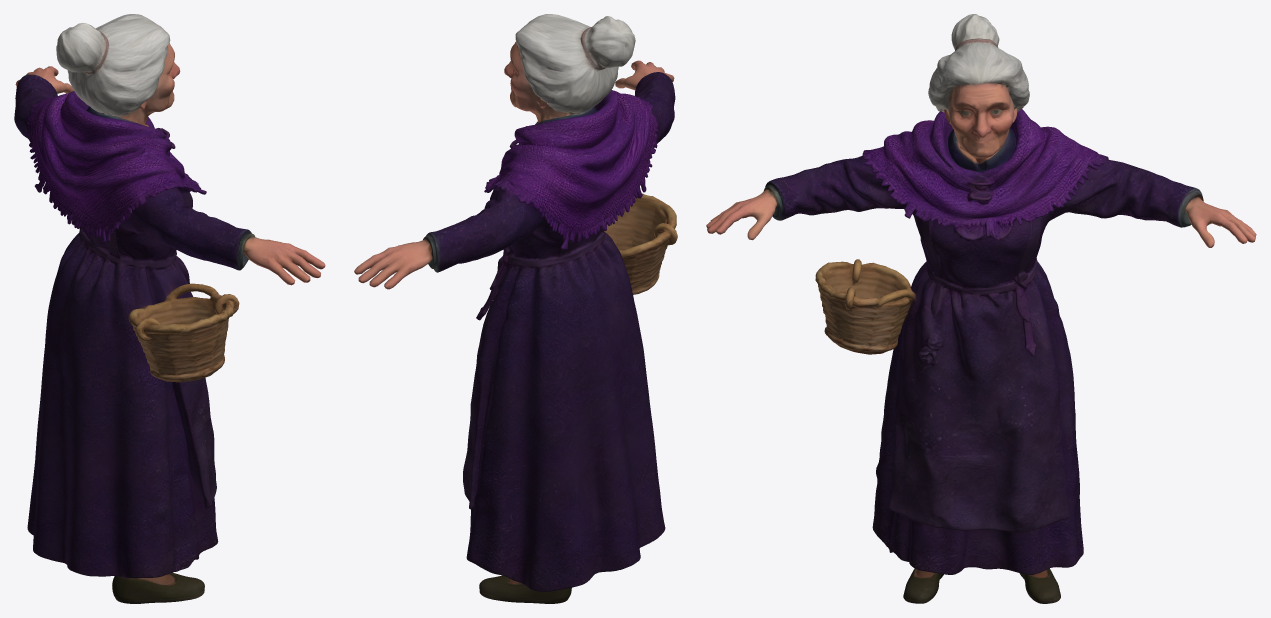
3 renders of one model, left to right at view 1: azimuth 30°, elevation 25°; view 2: azimuth 150°, elevation 25°; view 3: azimuth 270°, elevation 25°, orthographic. The views are drawn at different scales.
Visible parts, largest first — view 1: tripo_node_0fdf7fc4-107e-483f-bc57-919c023d244d; view 2: tripo_node_0fdf7fc4-107e-483f-bc57-919c023d244d; view 3: tripo_node_0fdf7fc4-107e-483f-bc57-919c023d244d.
Part boxes in pixels (box(x1,y1,x2,y2)): tripo_node_0fdf7fc4-107e-483f-bc57-919c023d244d: box(14, 14, 325, 603); tripo_node_0fdf7fc4-107e-483f-bc57-919c023d244d: box(354, 14, 677, 603); tripo_node_0fdf7fc4-107e-483f-bc57-919c023d244d: box(706, 14, 1256, 603).
Bounding box in the file's own units: 0.2919 × 1 × 0.9117.
1 material, 1 textured.
